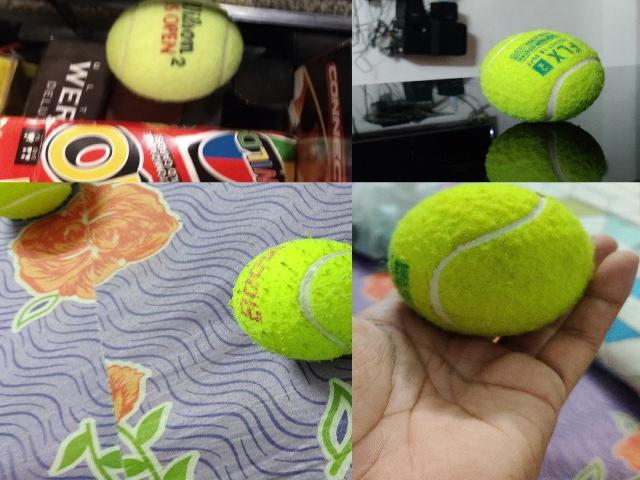tennis-ball: (386, 183, 596, 336), (231, 238, 351, 362), (103, 0, 245, 104), (479, 29, 605, 122), (487, 122, 608, 182), (0, 182, 75, 220)
